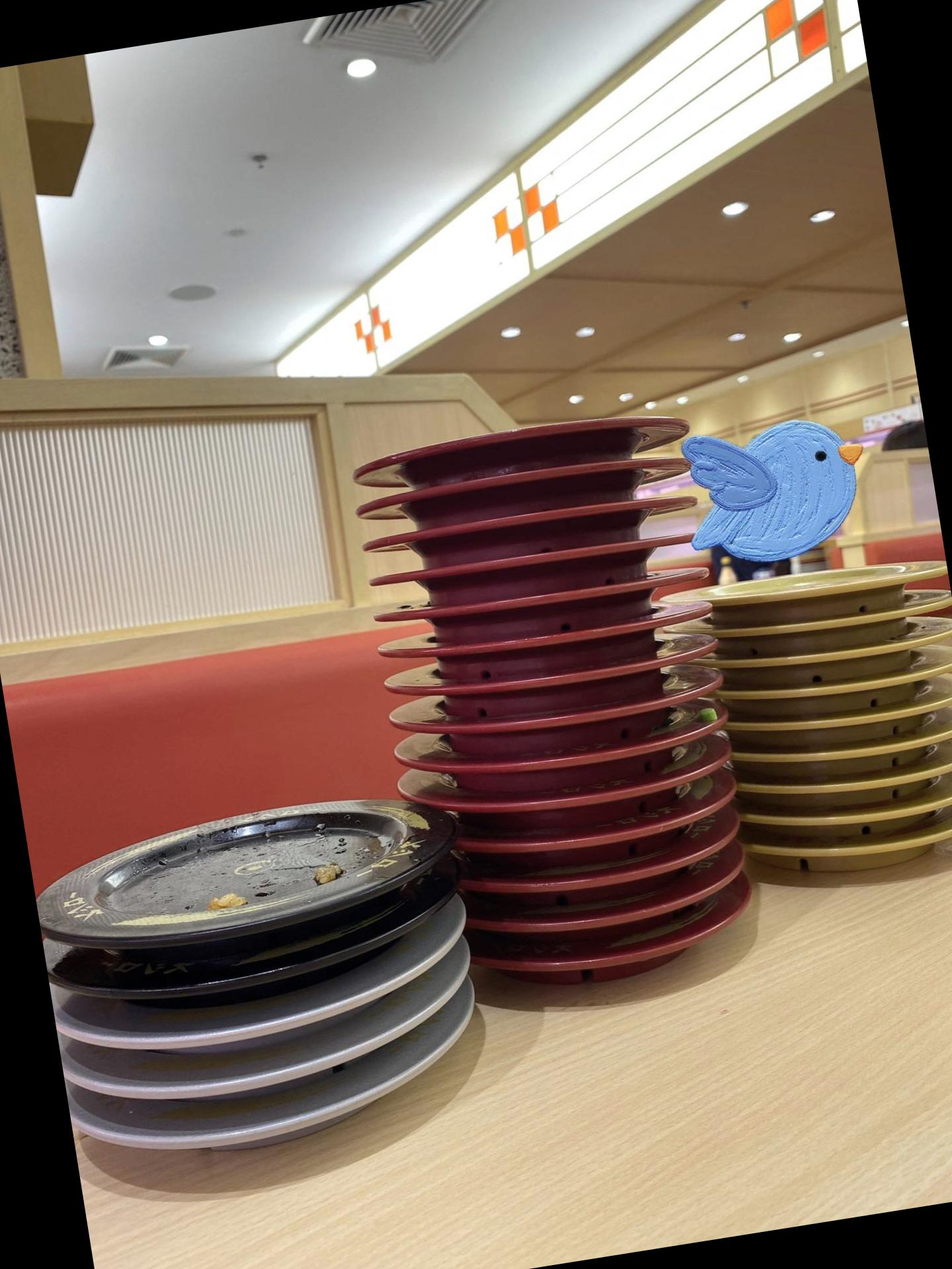Janback: (28, 787, 452, 949), (46, 899, 444, 1008)
Jangold: (707, 546, 949, 614), (709, 589, 952, 656), (722, 623, 952, 691), (736, 658, 952, 722), (738, 693, 952, 754), (745, 726, 952, 787), (762, 820, 952, 886), (753, 786, 952, 846), (748, 757, 952, 814)
Janred: (332, 391, 700, 492), (364, 483, 698, 576), (349, 441, 686, 533), (367, 530, 680, 606), (391, 604, 685, 680), (368, 568, 677, 639), (407, 644, 687, 722), (422, 680, 688, 757), (470, 804, 705, 874), (449, 723, 690, 791), (498, 914, 721, 984), (464, 765, 696, 831), (477, 883, 715, 944), (490, 846, 708, 909)
Janwhite: (56, 967, 429, 1072), (70, 1062, 404, 1174), (63, 1015, 418, 1116)
